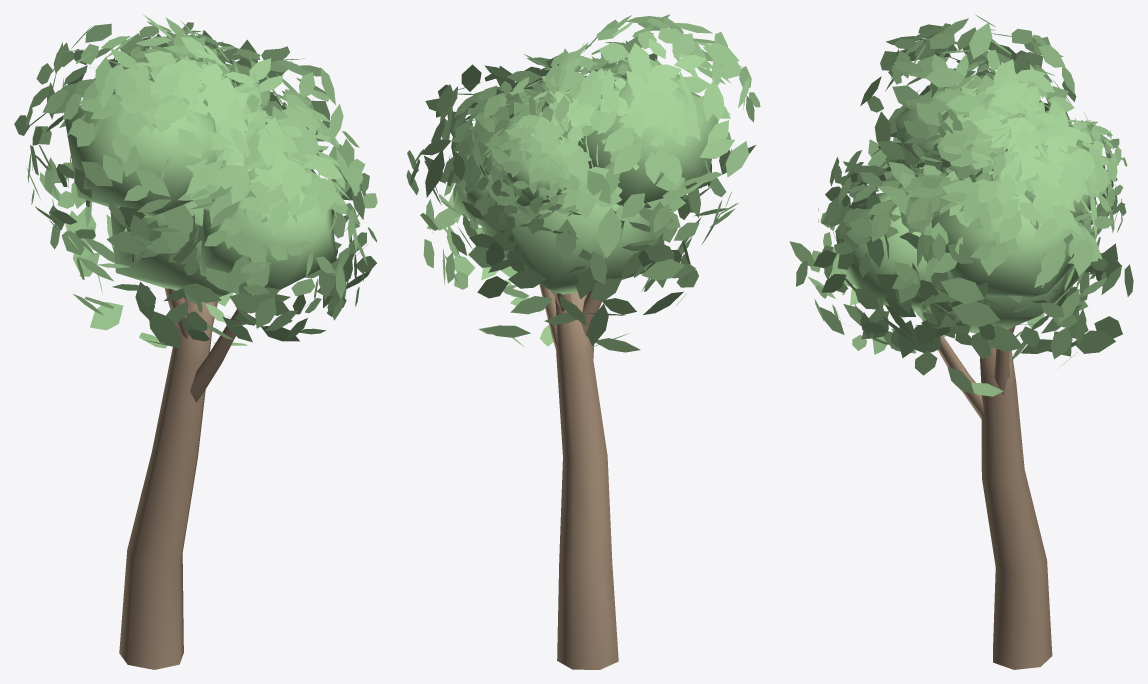
Rendered from tree_tall_B.glb.
The picture shows the model from 3 angles, left to right: view 1: azimuth 30°, elevation 25°; view 2: azimuth 150°, elevation 25°; view 3: azimuth 270°, elevation 25°; orthographic projection. The views are drawn at different scales.
Visible parts, largest first — view 1: tree_tall_B; view 2: tree_tall_B; view 3: tree_tall_B.
Boxes of the visible parts, x1,y1,x2,y2 form: tree_tall_B: (14,14,377,669); tree_tall_B: (406,14,760,669); tree_tall_B: (789,15,1133,669).
Size of the model in its own units: 1.11 by 2.2 by 1.1.
